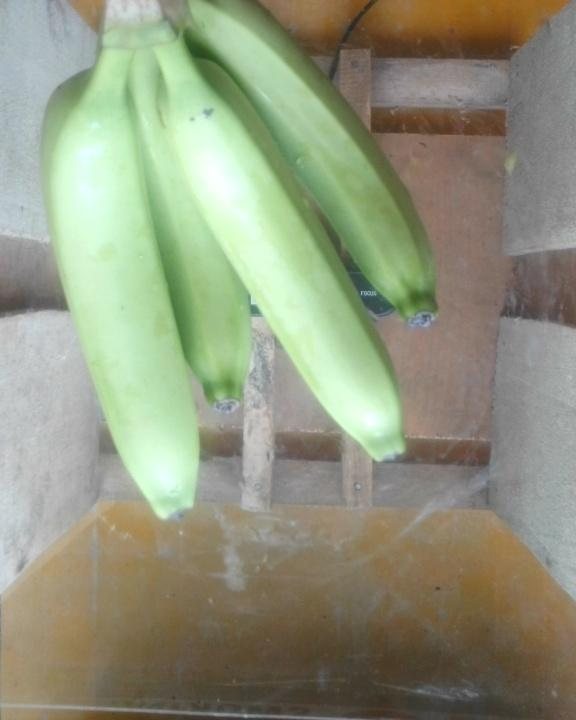SPOT: (13, 1, 474, 536)
